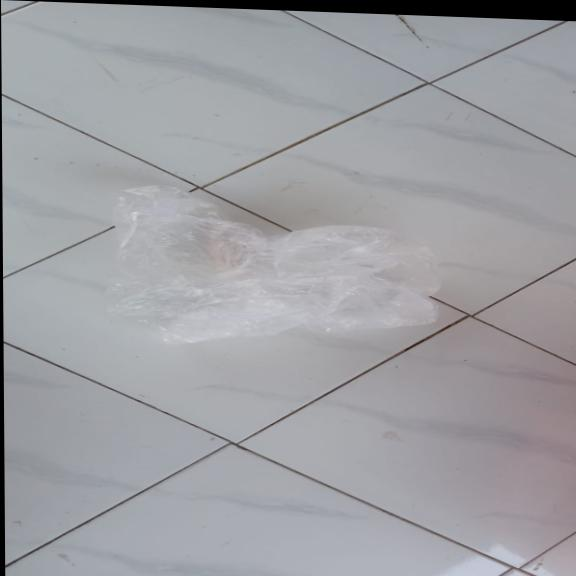Plastik: (106, 183, 440, 353)
